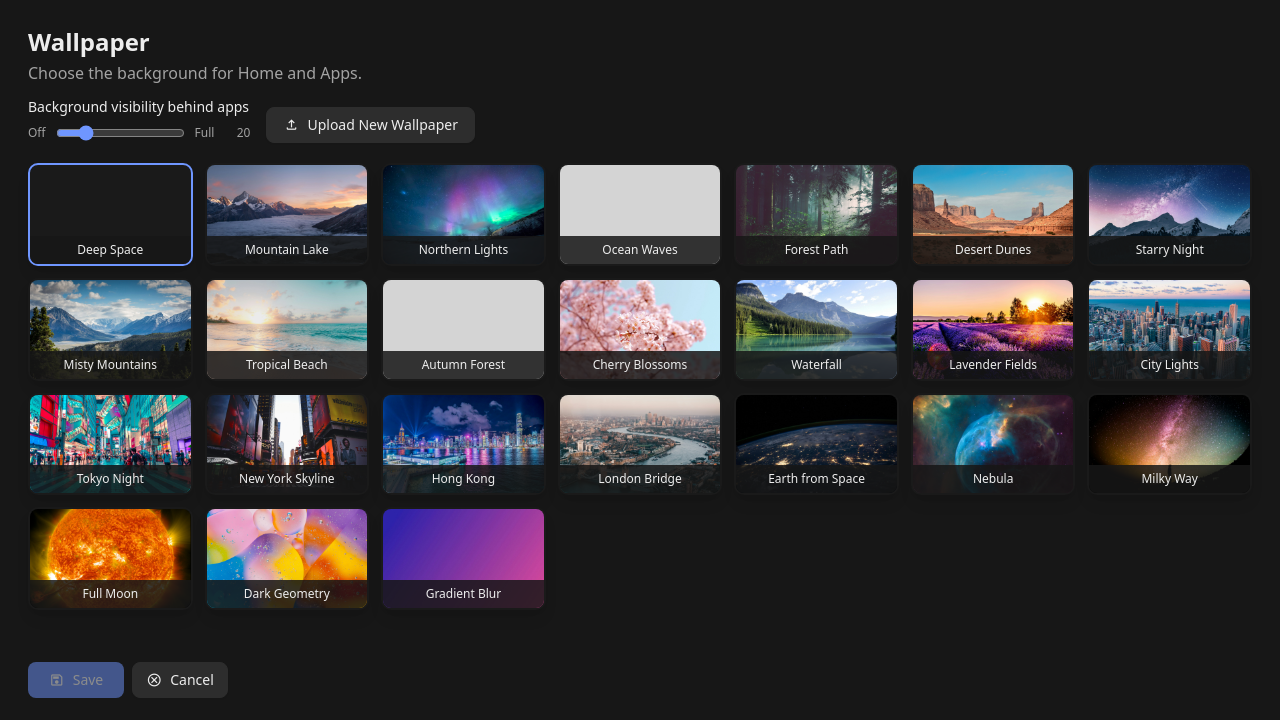
Test: WallpaperModule save/cancel › keeps Save/Cancel visible, disabled when clean, and Cancel reverts to the saved state
Expected: the slider labelled "Background visibility behind apps" is shown, left=56, top=125, right=185, bottom=141
Expected: the button "Save" is disabled, left=28, top=662, right=124, bottom=698
Note: Preview a different wallpaper → dirty → the pair enables.
Step 1. Click the button "Ocean Waves" → (640, 214), box left=558, top=163, right=722, bottom=266
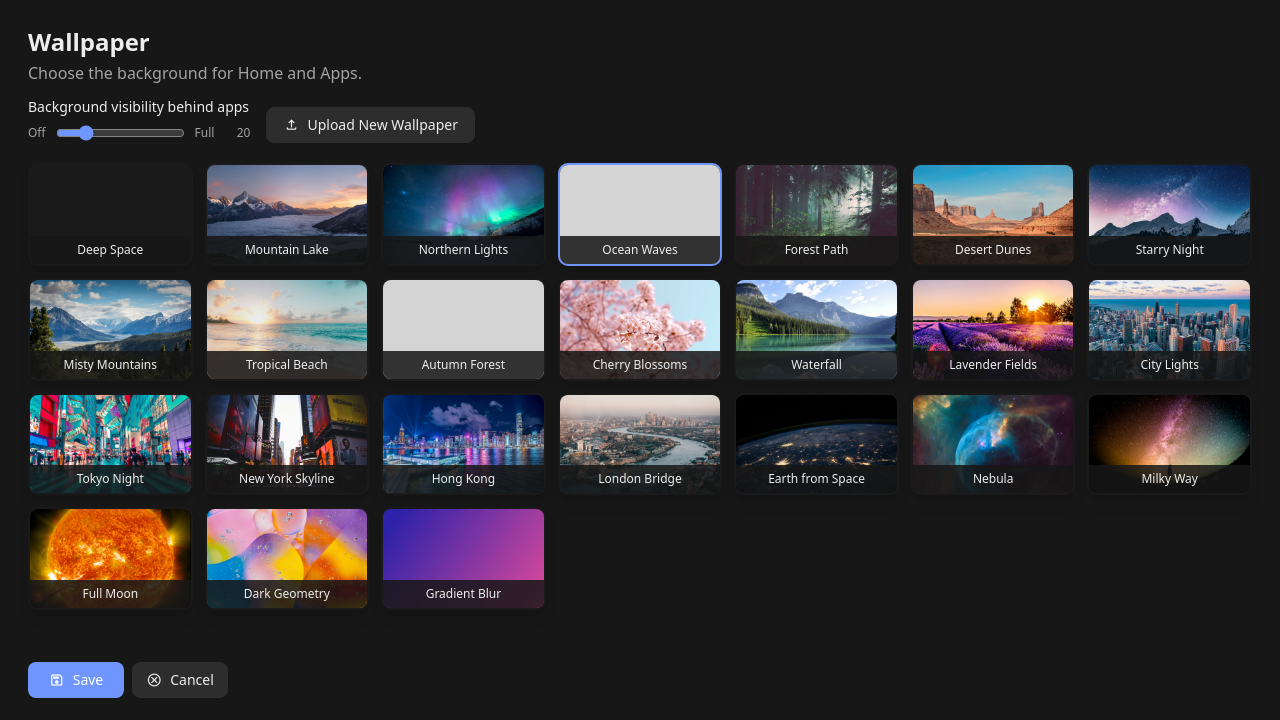
Expected: the button "Save" is enabled, left=28, top=662, right=124, bottom=698
Step 2. Click the button "Cancel" → (180, 680), box left=132, top=662, right=228, bottom=698
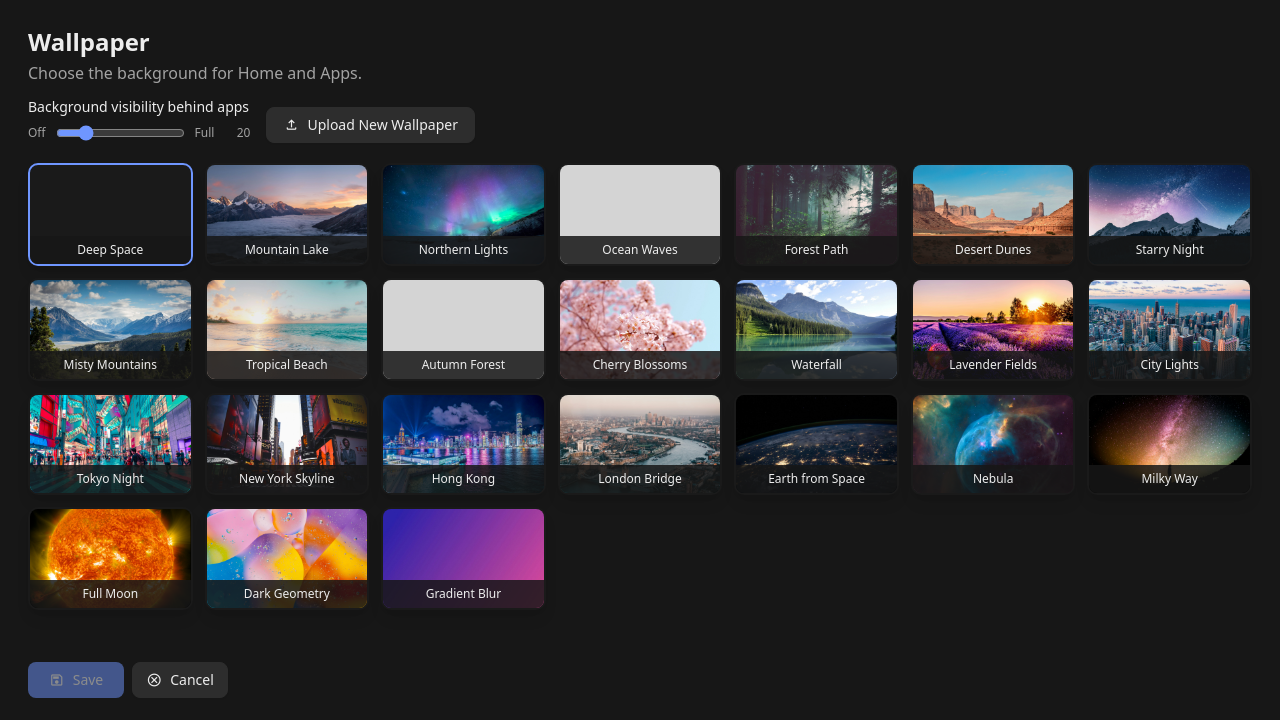
Expected: the button "Save" is disabled, left=28, top=662, right=124, bottom=698
